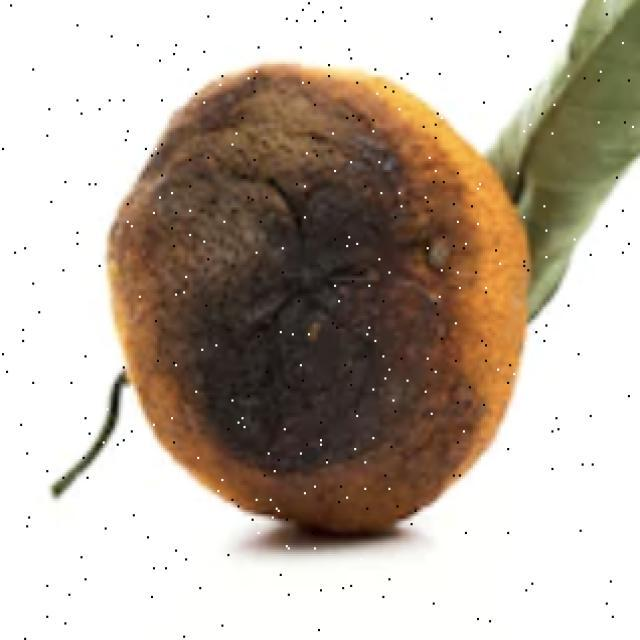sangat-busuk: (108, 65, 527, 529)
